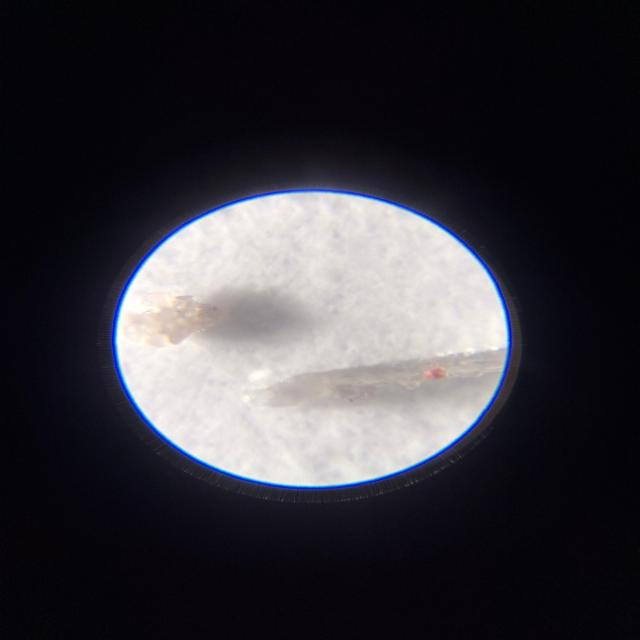microplastic_type_1: (244, 348, 508, 407), (119, 293, 219, 347)
